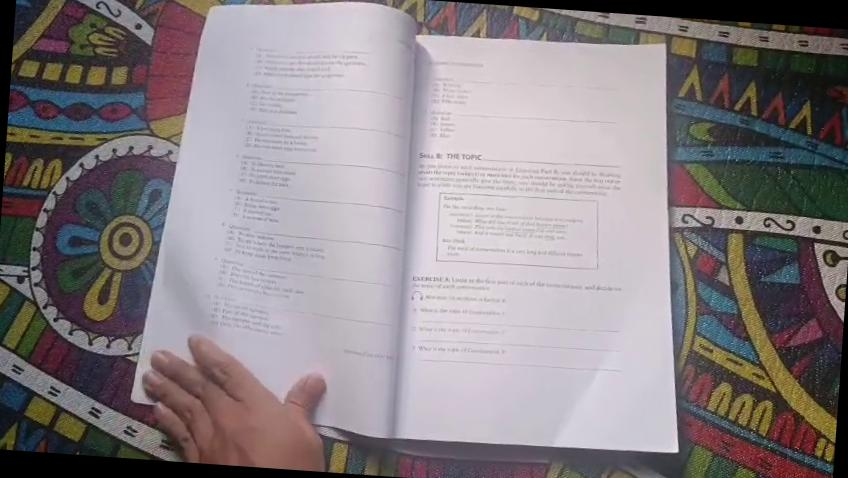Kertas: (381, 20, 705, 474), (132, 0, 429, 450)
